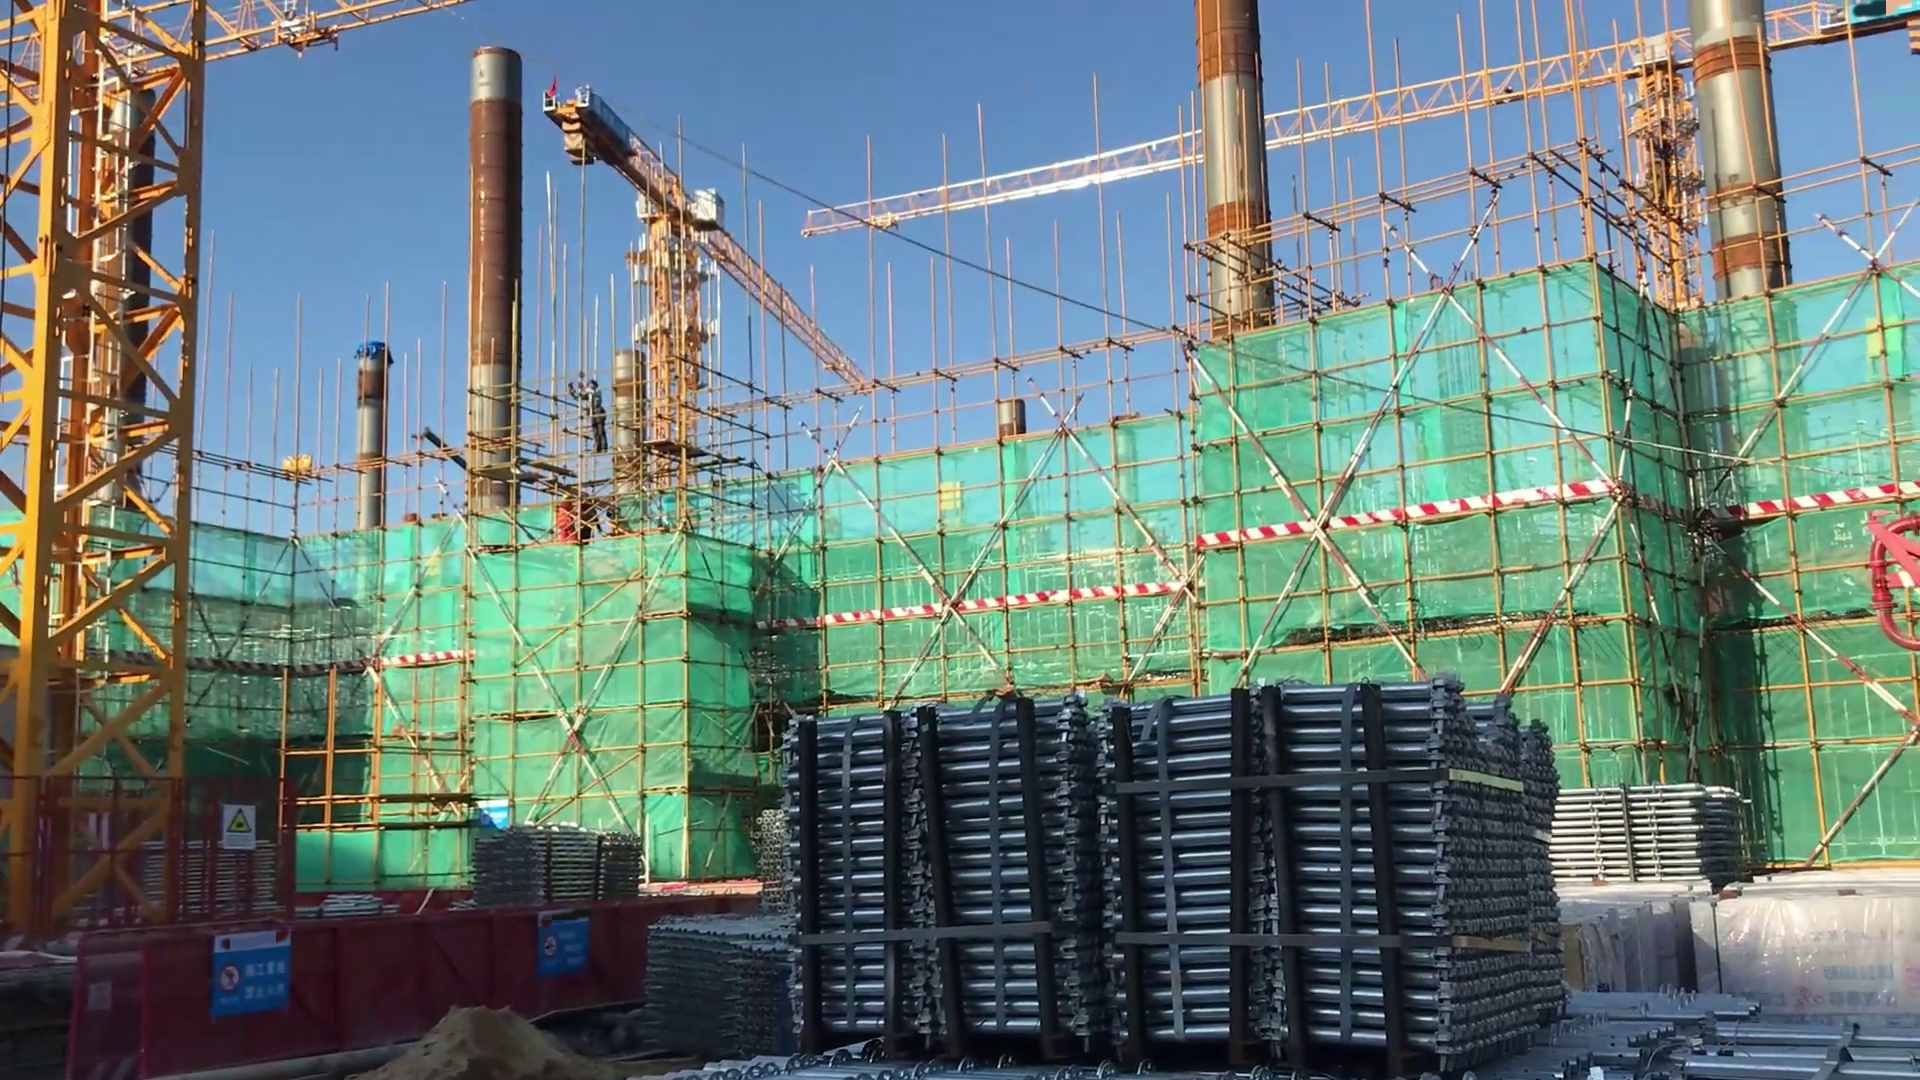fence: (76, 888, 647, 1064), (31, 780, 309, 910)
hook: (277, 453, 316, 487)
person: (564, 374, 612, 460)
scaffold: (791, 666, 1556, 1055), (1566, 982, 1920, 1076), (1550, 777, 1738, 903), (643, 918, 799, 1045), (469, 826, 641, 905), (758, 807, 795, 914)
slogan: (218, 920, 301, 1003), (536, 917, 608, 979), (206, 792, 268, 856), (466, 795, 517, 835)
